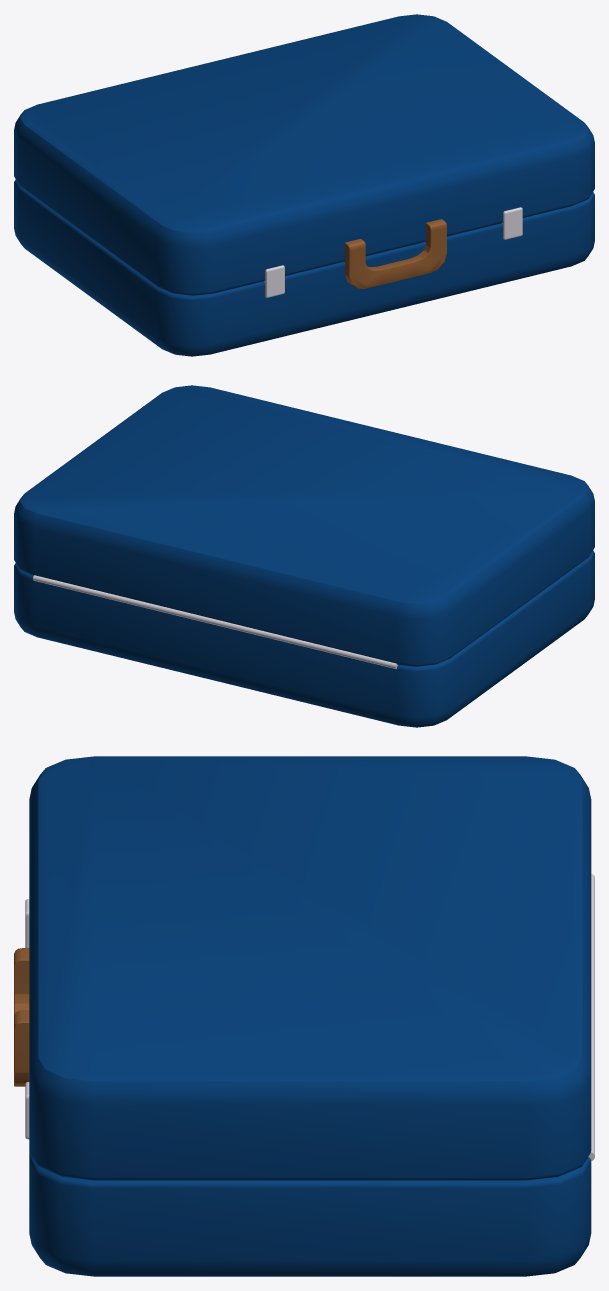
File: maletin.fbx
The picture shows the model from 3 angles, top to bottom: view 1: azimuth 30°, elevation 25°; view 2: azimuth 150°, elevation 25°; view 3: azimuth 270°, elevation 25°; orthographic projection. The views are drawn at different scales.
Visible parts, largest first — view 1: Cylinder, Cube.002, Plane, Plane.001; view 2: Cylinder, Cube.002; view 3: Cylinder, Cube.002, Plane.
Boxes of the visible parts, box(x1,y1,x2,y2) form: Cylinder: box(14, 14, 594, 295); Cube.002: box(14, 179, 594, 356); Plane: box(345, 219, 446, 288); Plane.001: box(264, 207, 522, 297); Cylinder: box(14, 385, 594, 669); Cube.002: box(14, 550, 594, 727); Cylinder: box(29, 756, 594, 1180); Cube.002: box(29, 1152, 591, 1276); Plane: box(14, 948, 29, 1086).
Size of the model in its own units: 35 by 25.85 by 9.89.
